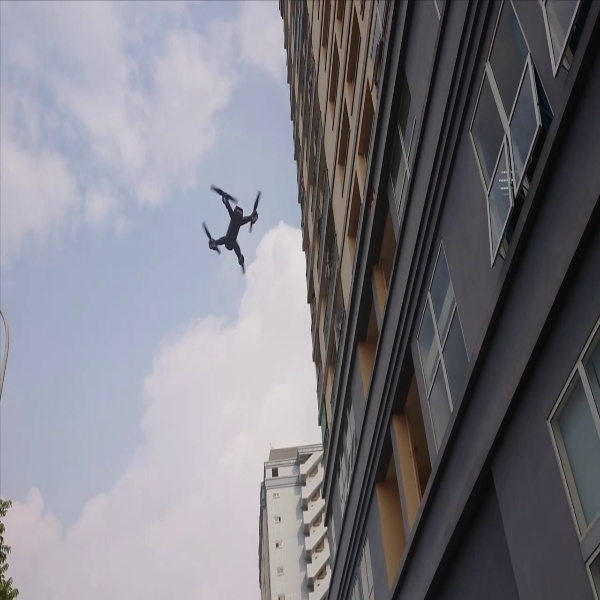drone: (186, 176, 280, 282)
